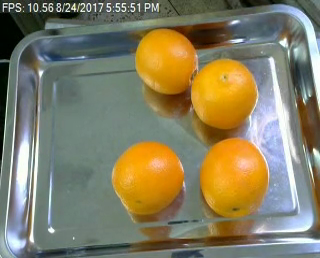Orange: (198, 136, 269, 217), (110, 139, 185, 214), (189, 56, 258, 131), (134, 26, 198, 94)
